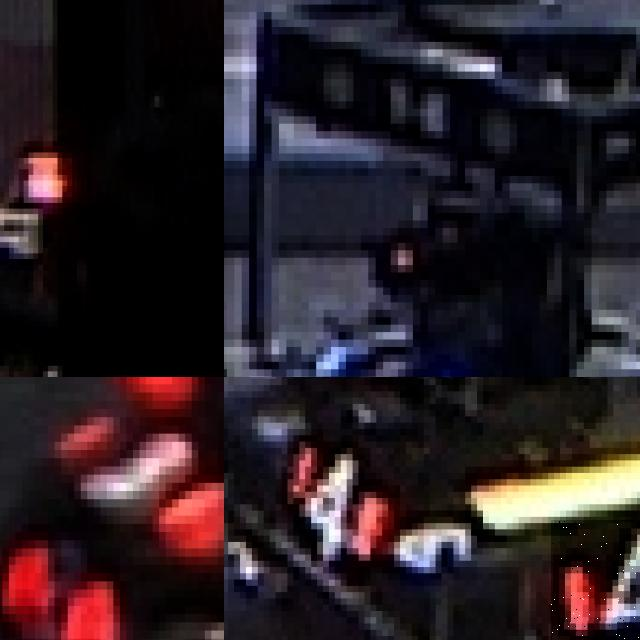B1: (316, 317, 457, 377)
R3: (58, 384, 224, 531), (0, 528, 123, 640)
R4: (261, 416, 391, 574), (551, 520, 640, 640)
